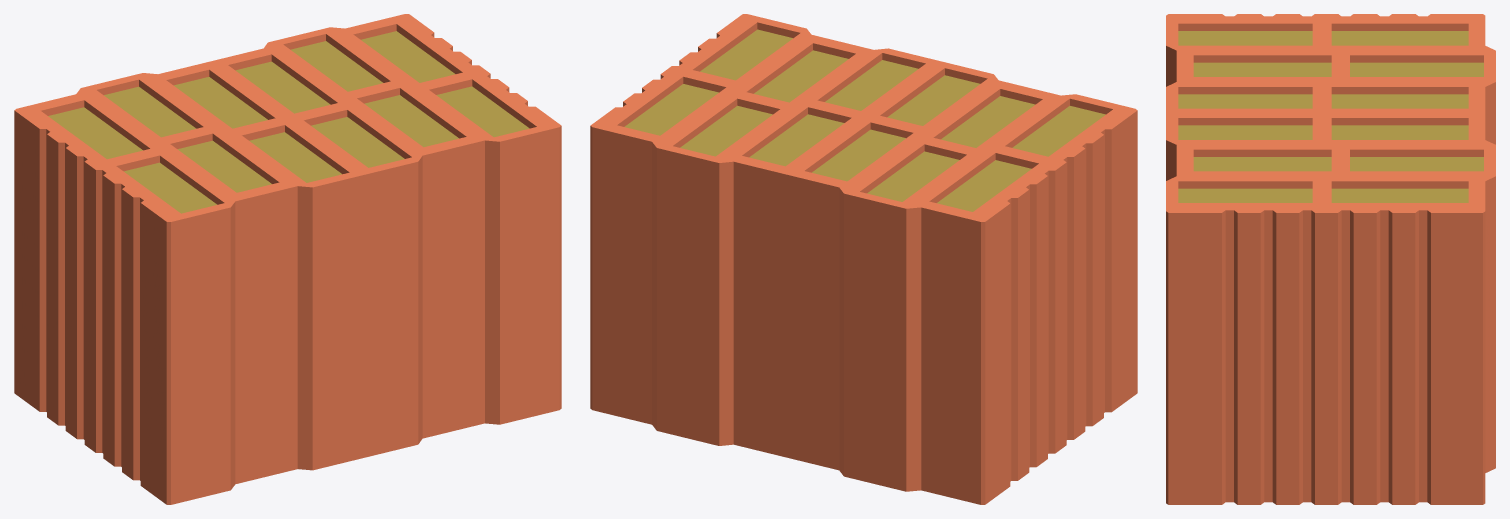
3 renders of one model, left to right at view 1: azimuth 30°, elevation 25°; view 2: azimuth 150°, elevation 25°; view 3: azimuth 270°, elevation 25°, orthographic. The views are drawn at different scales.
Visible parts, largest first — view 1: Außenziegel template.002; view 2: Außenziegel template.002; view 3: Außenziegel template.002.
Boxes of the visible parts, x1,y1,x2,y2 form: Außenziegel template.002: (14, 14, 561, 504); Außenziegel template.002: (590, 14, 1137, 504); Außenziegel template.002: (1166, 14, 1495, 504).
Size of the model in its own units: 0.365 by 0.25 by 0.2559.
